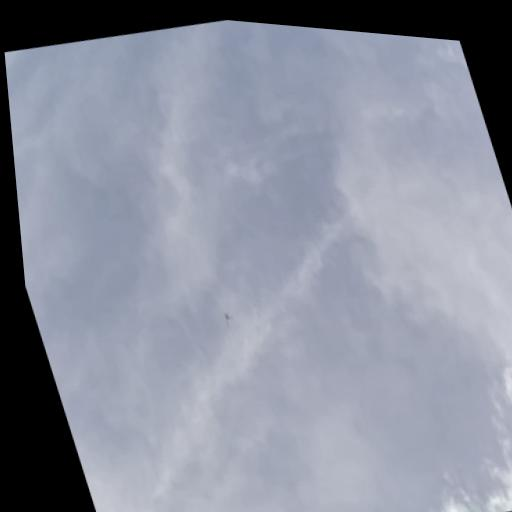drones: (216, 303, 241, 332)
